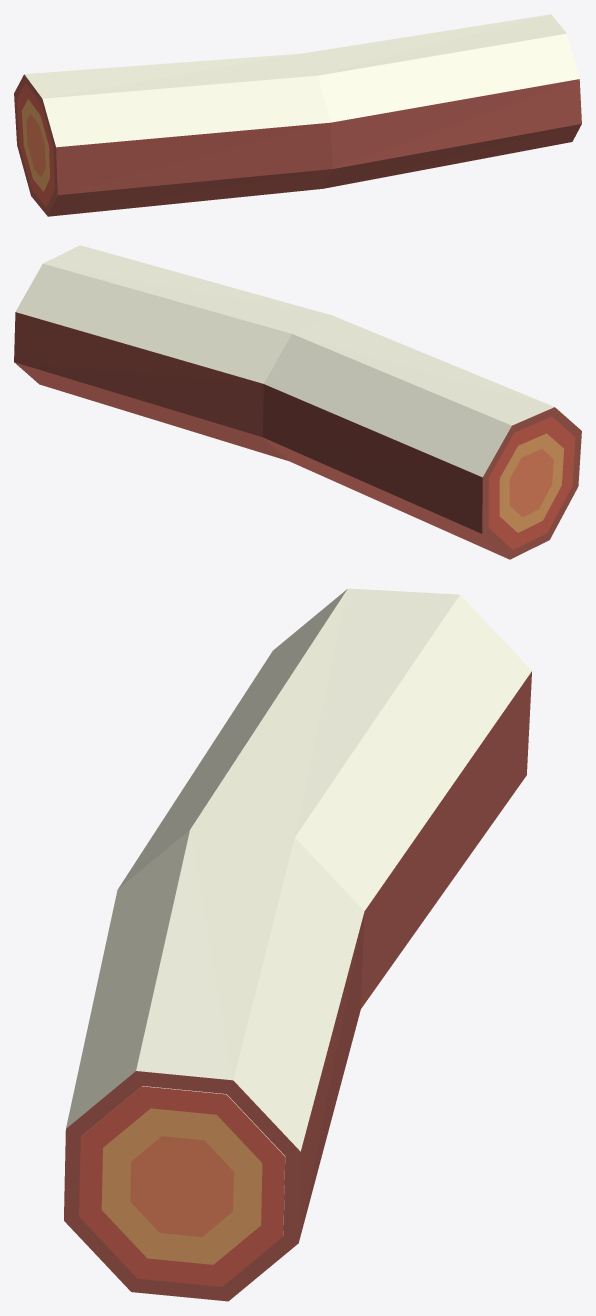
File: Log3_winter.FBX
3 views of the same model, one above another, from view 1: azimuth 30°, elevation 25°; view 2: azimuth 150°, elevation 25°; view 3: azimuth 270°, elevation 25° (orthographic). The views are drawn at different scales.
Parts seen in each view (by area): view 1: brevno winter; view 2: brevno winter; view 3: brevno winter.
Part boxes in pixels (<box>): brevno winter: <box>14,14,581,216</box>; brevno winter: <box>14,245,581,559</box>; brevno winter: <box>64,588,531,1301</box>.
Bounding box in the file's own units: 3.19 × 0.7515 × 1.31.
